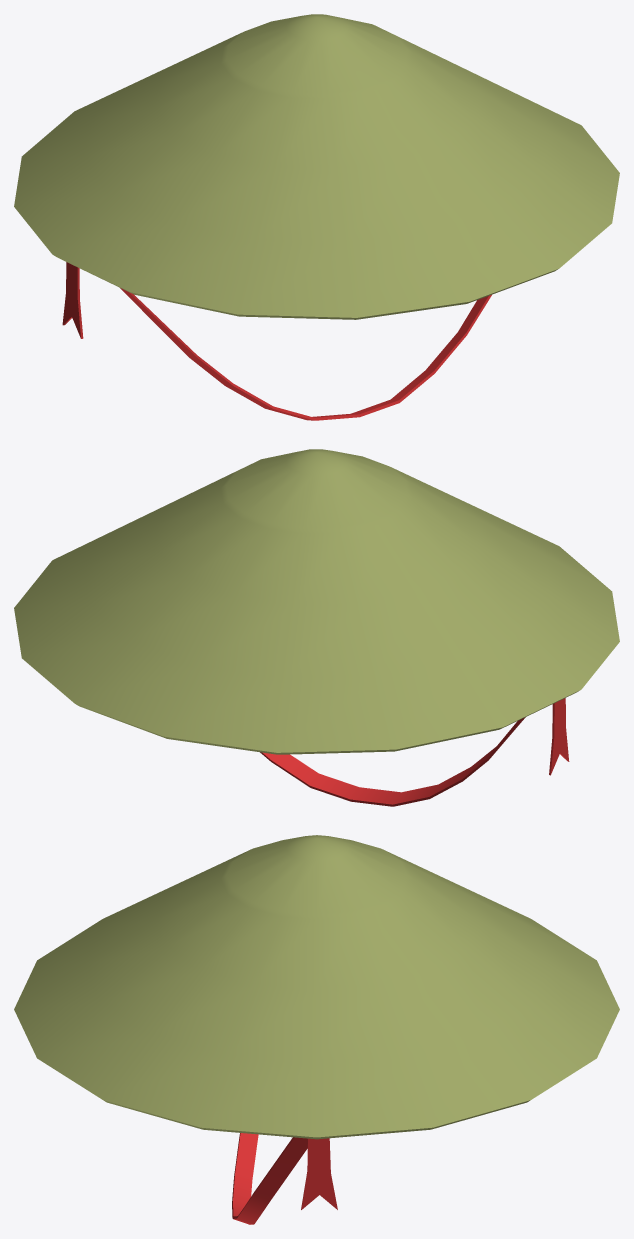
File: Hat_69_03.fbx
3 views of the same model, one above another, from view 1: azimuth 30°, elevation 25°; view 2: azimuth 150°, elevation 25°; view 3: azimuth 270°, elevation 25° (orthographic).
Parts seen in each view (by area): view 1: Hat_69_03; view 2: Hat_69_03; view 3: Hat_69_03.
Boxes of the visible parts, x1,y1,x2,y2 form: Hat_69_03: [14, 14, 619, 420]; Hat_69_03: [14, 449, 619, 806]; Hat_69_03: [14, 835, 619, 1224].
Bounding box in the file's own units: 60.21 × 40.67 × 60.21.
